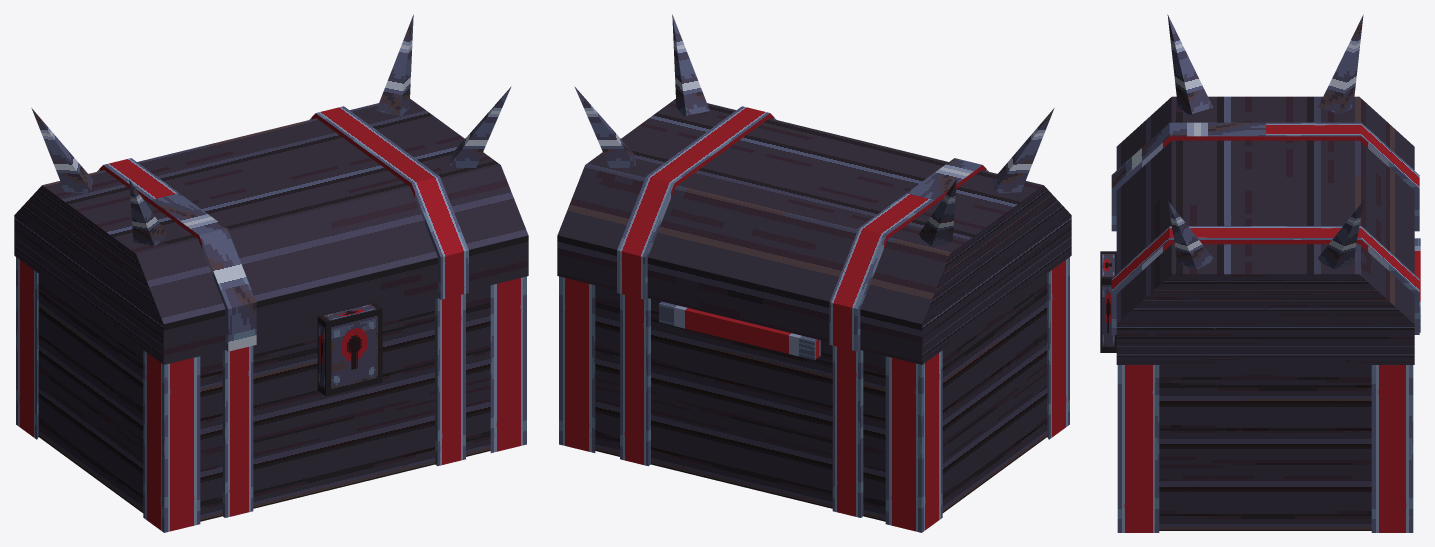
The model's file is chest_vampire.glb.
3 renders of one model, left to right at view 1: azimuth 30°, elevation 25°; view 2: azimuth 150°, elevation 25°; view 3: azimuth 270°, elevation 25°, orthographic.
Visible parts, largest first — view 1: lid, base, lock; view 2: lid, base; view 3: lid, base, lock.
Boxes of the visible parts, left/top/right/bottom form: lid: left=14, top=14, right=528, bottom=364; base: left=16, top=257, right=526, bottom=532; lock: left=317, top=302, right=382, bottom=396; lid: left=557, top=14, right=1071, bottom=364; base: left=559, top=257, right=1069, bottom=532; lid: left=1111, top=14, right=1419, bottom=364; base: left=1117, top=238, right=1420, bottom=532; lock: left=1100, top=251, right=1116, bottom=352.
Size of the model in its own units: 1.08 by 0.912 by 0.785.
1 material, 1 textured.
